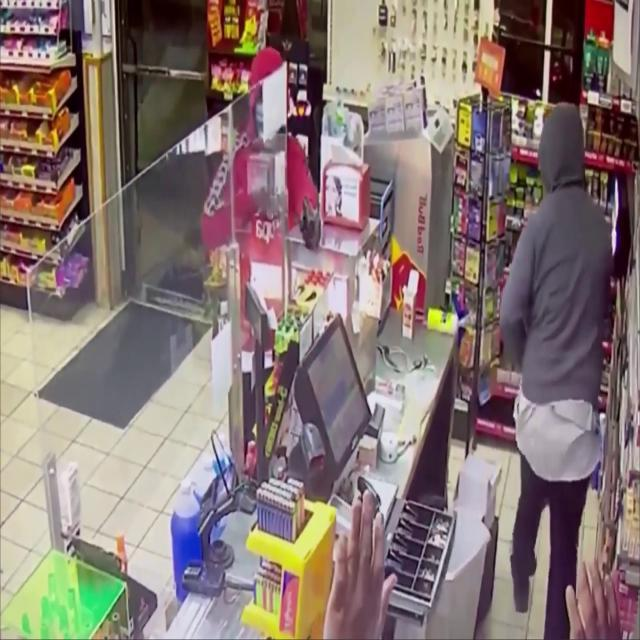Gun: (302, 196, 316, 250)
